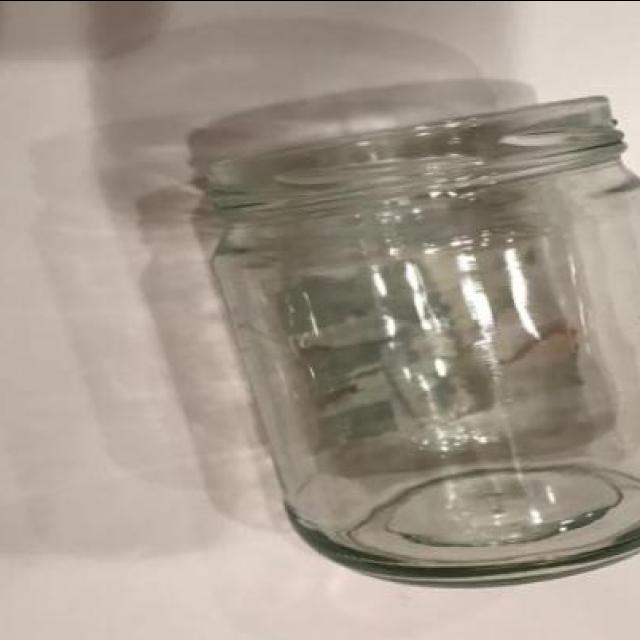kaca: (209, 98, 640, 591)
